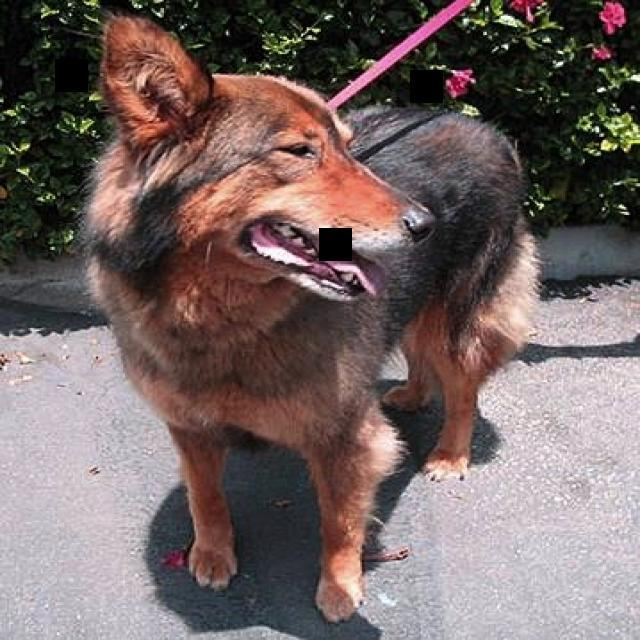adult_dog: (76, 7, 547, 624)
